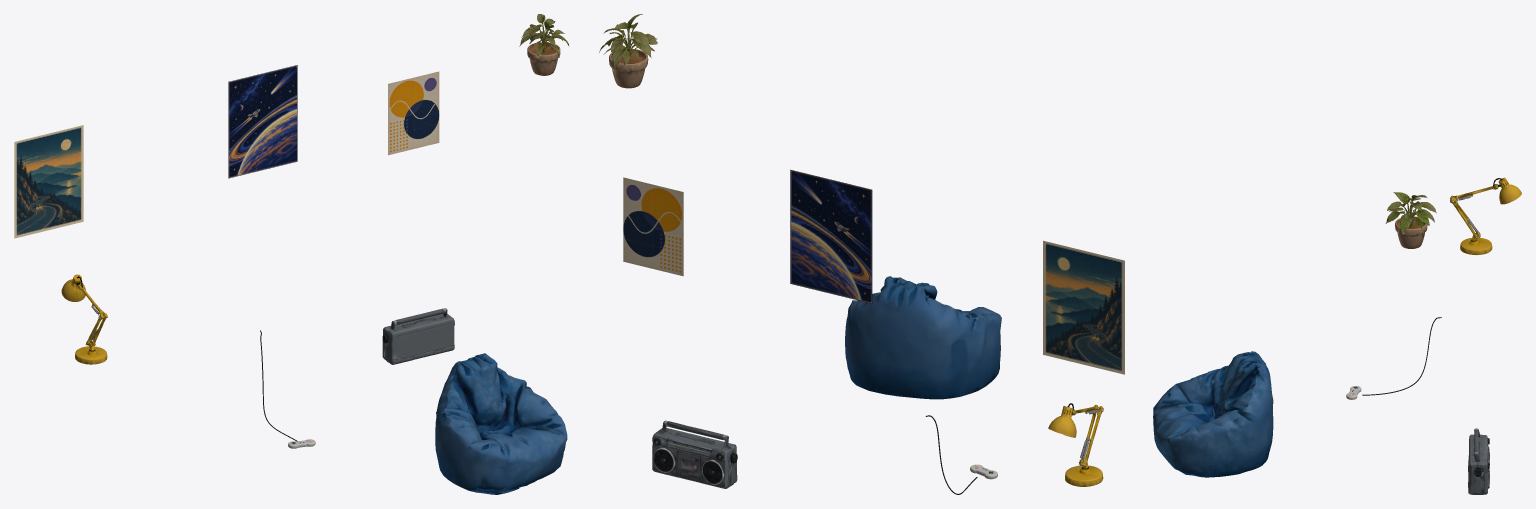
The model's file is props.glb.
3 views of the same model, side by side, from view 1: azimuth 30°, elevation 25°; view 2: azimuth 150°, elevation 25°; view 3: azimuth 270°, elevation 25° (orthographic). The views are drawn at different scales.
Visible parts, largest first — view 1: Prop_Beanbag, Poster_poster-road, Poster_poster-pixel-space, Poster_poster-swiss, Prop_Boombox, Prop_Plant, Prop_Lamp; view 2: Prop_Beanbag, Poster_poster-pixel-space, Poster_poster-road, Poster_poster-swiss, Prop_Boombox, Prop_Plant, Prop_Lamp; view 3: Prop_Beanbag, Prop_Plant, Prop_Lamp, Prop_Boombox.
Boxes of the visible parts, <box> form: Prop_Beanbag: <box>435,353,567,494</box>; Poster_poster-road: <box>14,125,83,238</box>; Poster_poster-pixel-space: <box>228,65,297,178</box>; Poster_poster-swiss: <box>388,71,439,155</box>; Prop_Boombox: <box>382,308,454,364</box>; Prop_Plant: <box>519,14,569,75</box>; Prop_Lamp: <box>61,274,107,364</box>; Prop_Beanbag: <box>845,276,1001,399</box>; Poster_poster-pixel-space: <box>790,169,872,303</box>; Poster_poster-road: <box>1043,240,1124,374</box>; Poster_poster-swiss: <box>623,177,683,276</box>; Prop_Boombox: <box>652,420,737,488</box>; Prop_Plant: <box>599,14,657,88</box>; Prop_Lamp: <box>1048,403,1103,486</box>; Prop_Beanbag: <box>1153,351,1273,477</box>; Prop_Plant: <box>1385,192,1436,248</box>; Prop_Lamp: <box>1450,177,1521,255</box>; Prop_Boombox: <box>1468,428,1489,494</box>.
Size of the model in its own units: 3.29 by 2.16 by 2.18.
12 materials, 7 textured.
